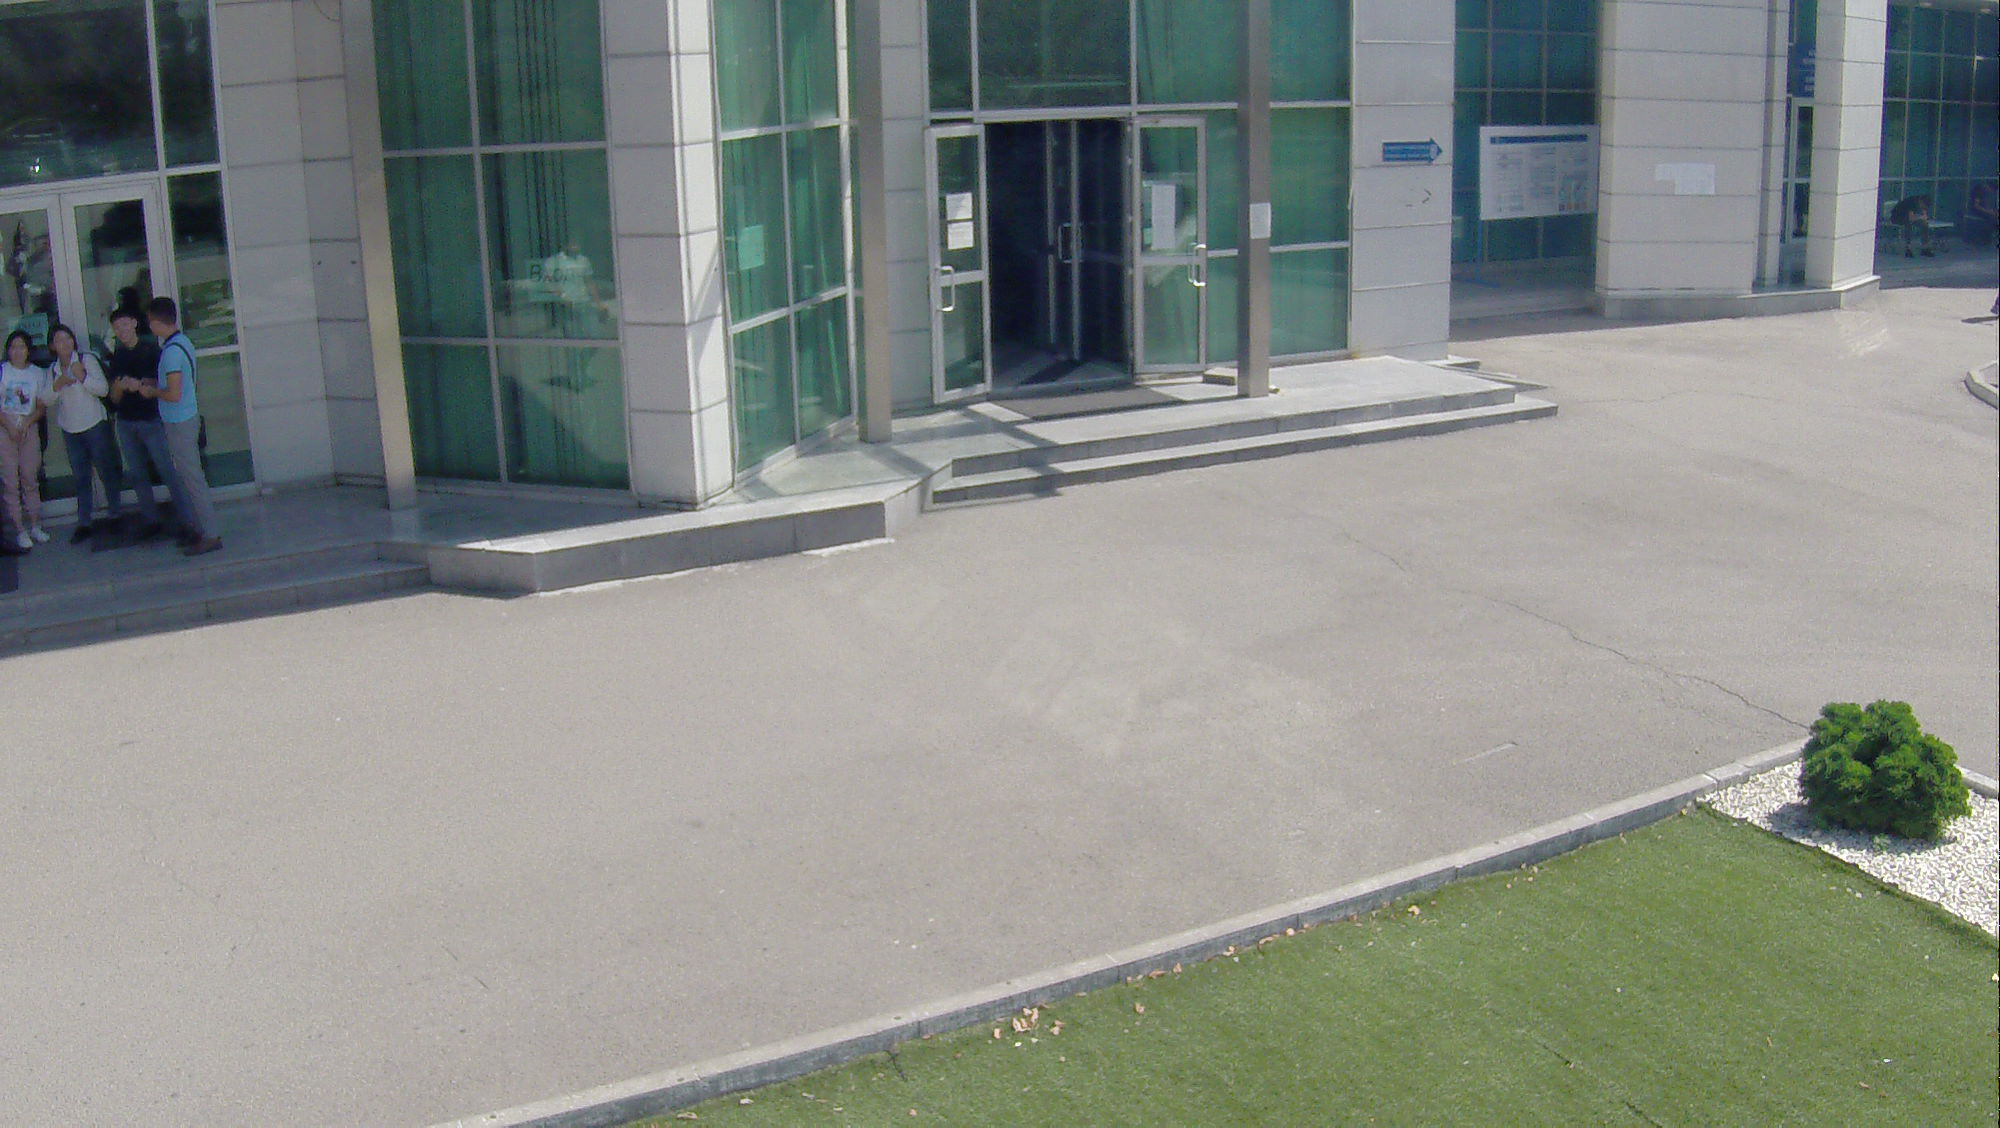person: (44, 317, 140, 551), (103, 303, 189, 552), (141, 299, 224, 555), (2, 322, 55, 557)
